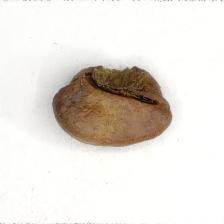NG: (68, 64, 167, 110)
